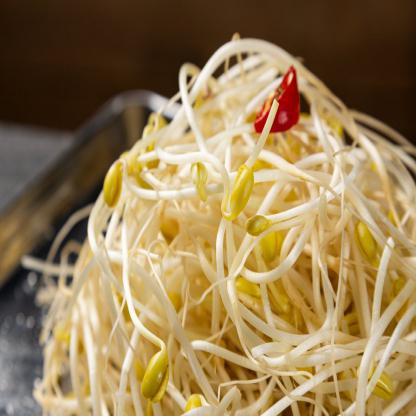bean sprouts: (154, 154, 416, 416)
